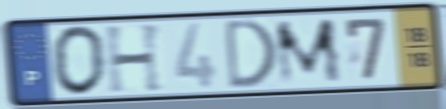4: (172, 20, 220, 92)
7: (341, 15, 388, 84)
D: (222, 16, 279, 93)
H: (102, 21, 166, 96)
M: (272, 15, 346, 88)
O: (49, 24, 109, 98)
